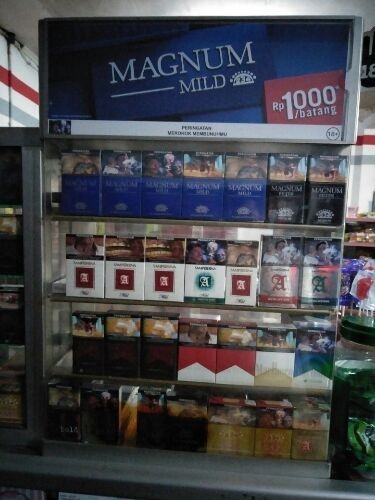A Mild: (145, 236, 184, 302), (66, 233, 103, 298), (105, 235, 143, 298)
